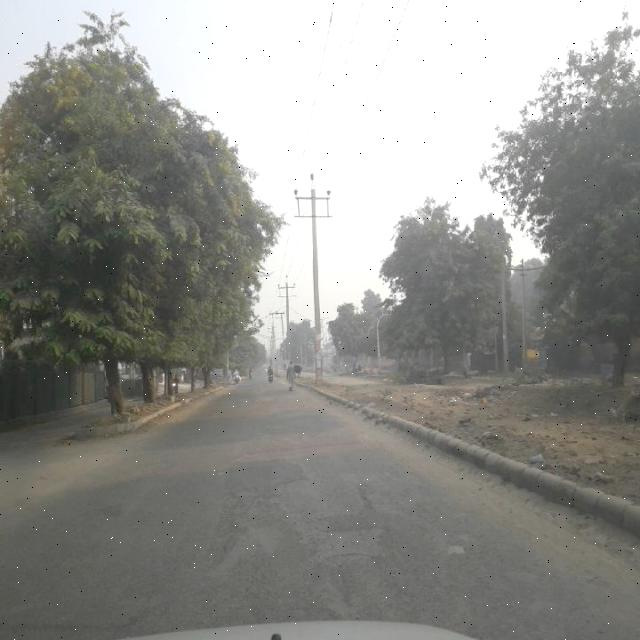D40: (316, 546, 384, 564)
